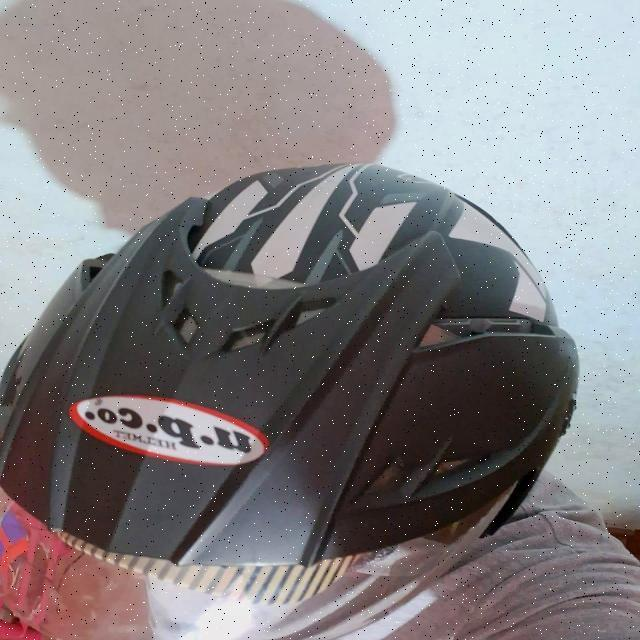helmet: (0, 160, 582, 640)
